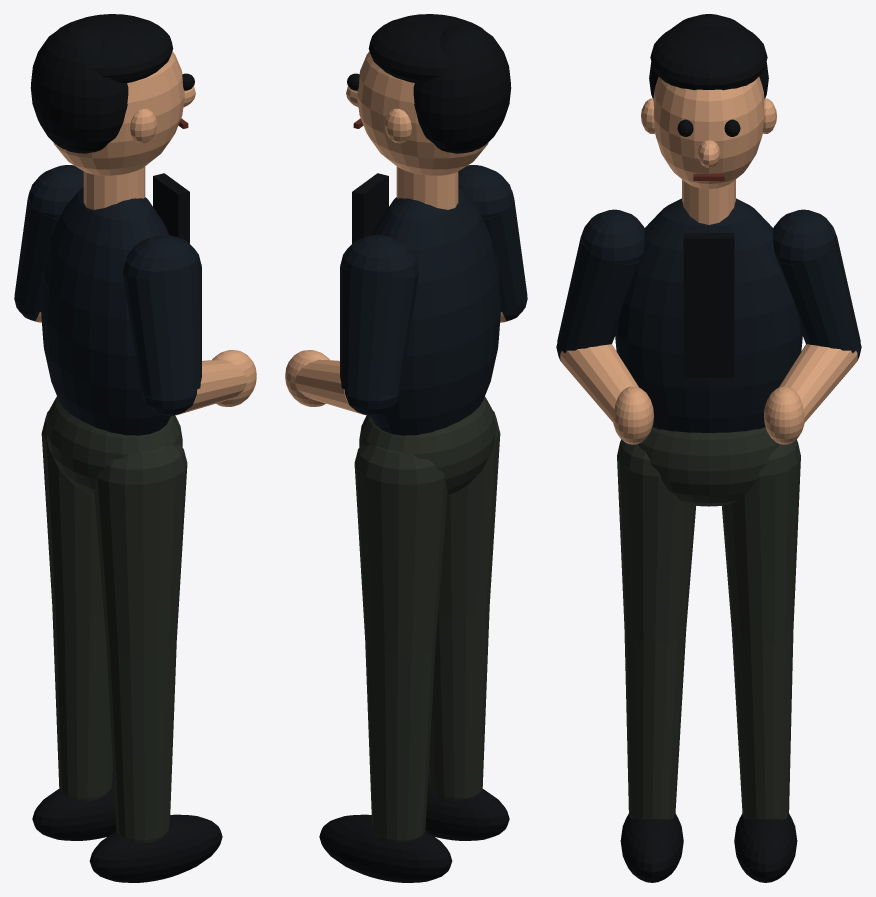
Rendered from person_16.dae.
The picture shows the model from 3 angles, left to right: view 1: azimuth 30°, elevation 25°; view 2: azimuth 150°, elevation 25°; view 3: azimuth 270°, elevation 25°; orthographic projection.
Parts seen in each view (by area): view 1: part0node, part2node, part1node, part3node; view 2: part0node, part2node, part1node, part3node; view 3: part0node, part2node, part1node, part3node.
Boxes of the visible parts, <box> form: part0node: <box>41,396,187,843</box>; part2node: <box>14,165,201,435</box>; part1node: <box>30,14,222,882</box>; part3node: <box>35,51,256,415</box>; part0node: <box>354,396,500,843</box>; part2node: <box>340,165,527,435</box>; part1node: <box>319,14,511,882</box>; part3node: <box>285,51,506,415</box>; part0node: <box>617,427,800,819</box>; part2node: <box>556,198,861,432</box>; part1node: <box>620,14,797,882</box>; part3node: <box>560,76,857,444</box>.
Size of the model in its own units: 0.033 by 0.05 by 0.15.
